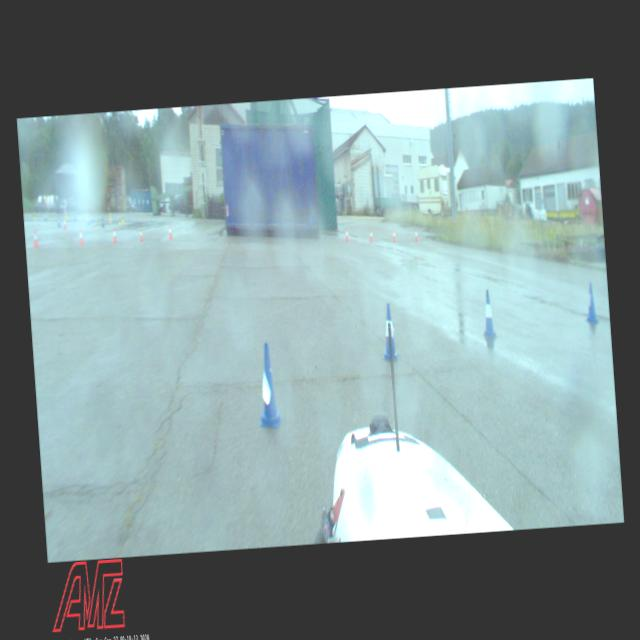blue_cone: (254, 341, 284, 429), (378, 304, 398, 362), (480, 288, 496, 340), (583, 280, 598, 323)
orange_cone: (138, 226, 144, 242), (32, 231, 38, 246), (78, 228, 83, 244), (368, 228, 372, 244), (112, 226, 116, 242), (168, 224, 172, 239), (344, 226, 348, 241), (414, 227, 418, 242), (392, 228, 396, 242)
